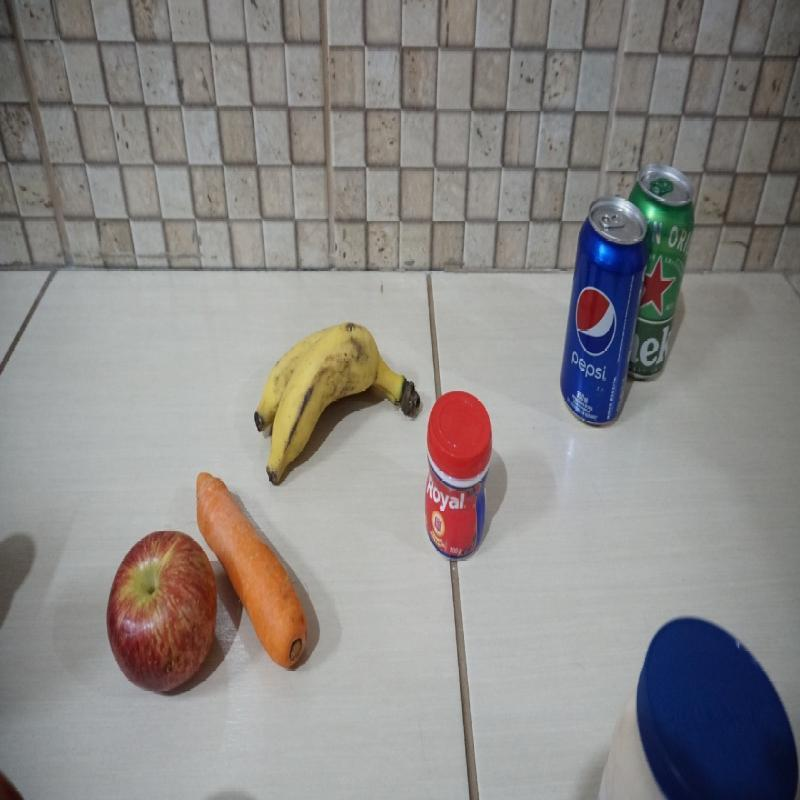Apple: (107, 528, 220, 694)
Banana: (253, 320, 422, 484)
Beer can: (625, 160, 697, 382)
Carrot: (196, 472, 308, 671)
Soda can: (560, 196, 649, 427)
Yeast: (426, 390, 492, 561)
